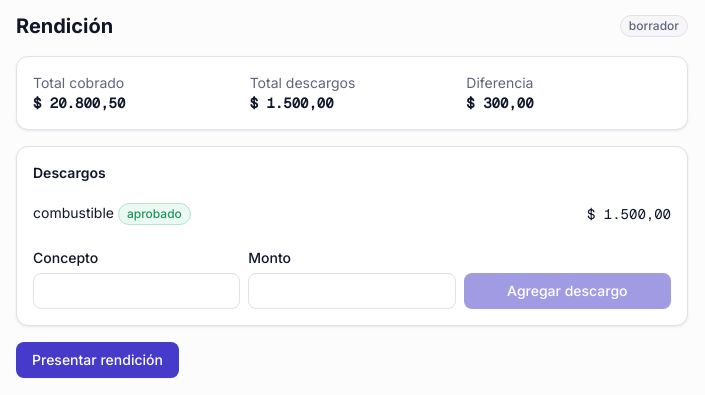
RendicionPage › ejecuta la acción presentar
Expected: the text "combustible aprobado" is shown, [33,203,191,225]
Click the button "Presentar rendición" at (97, 360), box [16,342,179,378]
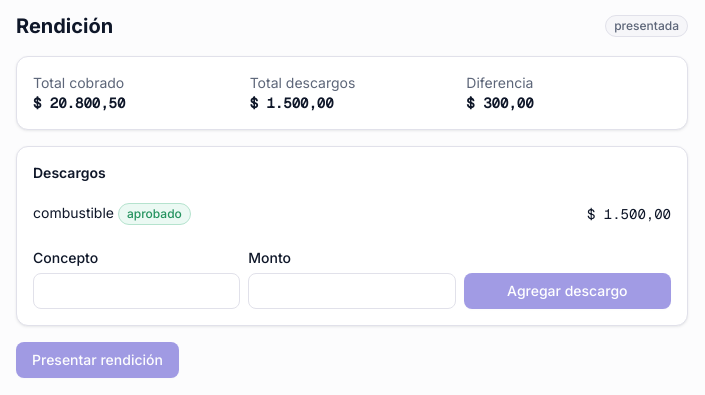
Expected: the text "presentada" is shown, [605,15,688,37]
